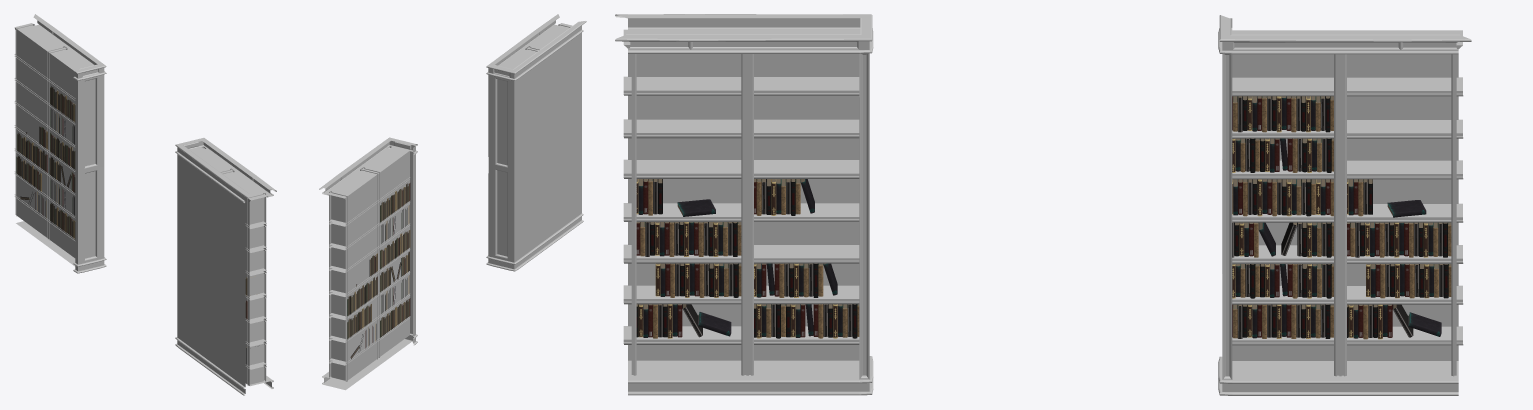
Rendered from books_shelf.fbx.
3 views of the same model, side by side, from view 1: azimuth 30°, elevation 25°; view 2: azimuth 150°, elevation 25°; view 3: azimuth 270°, elevation 25° (orthographic). The views are drawn at different scales.
Visible parts, largest first — view 1: shelf (×2), book; view 2: shelf (×2), book; view 3: shelf (×2), book (×2).
Boxes of the visible parts, x1,y1,x2,y2 form: shelf (×2): (14, 14, 276, 395); book: (16, 86, 75, 238); shelf (×2): (319, 14, 586, 390); book: (347, 183, 410, 358); shelf (×2): (615, 14, 1471, 395); book (×2): (636, 96, 1451, 339).
Bounding box in the file's own units: 0.5084 × 3.21 × 7.37.
